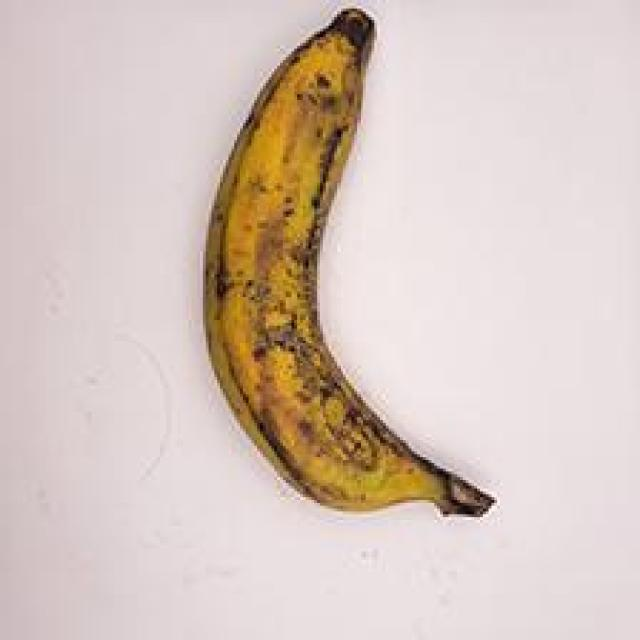Overripe: (165, 0, 504, 537)
